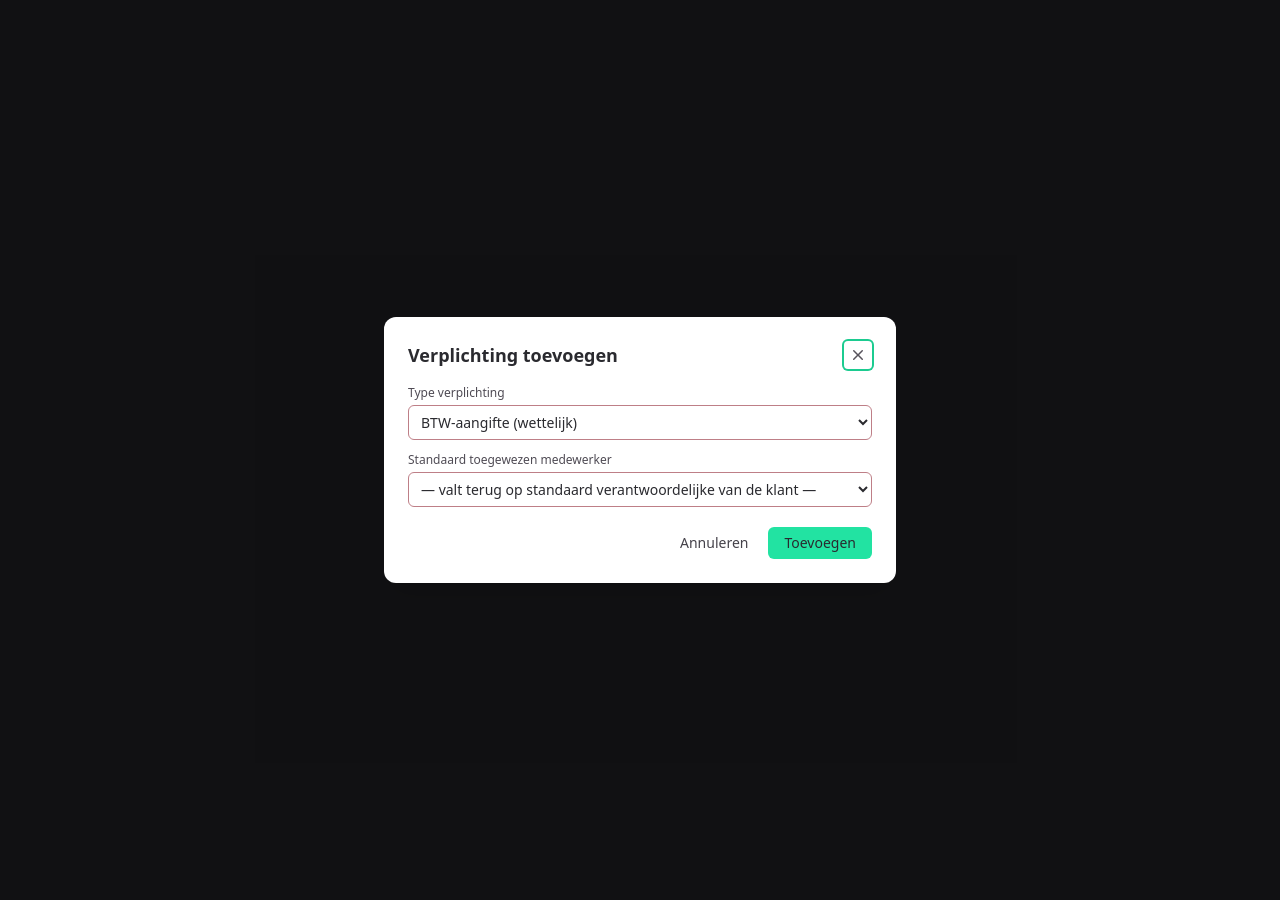
Test case: ClientObligationFormModal — type-dependent parameters › shows and submits frequentie/termijn_dagen parameters for "rapportering"
Later steps or results of the test are not shown.
Select "Periodieke rapportering (service)" in the dropdown labelled "Type verplichting" at (640, 422), box [408, 405, 872, 440]
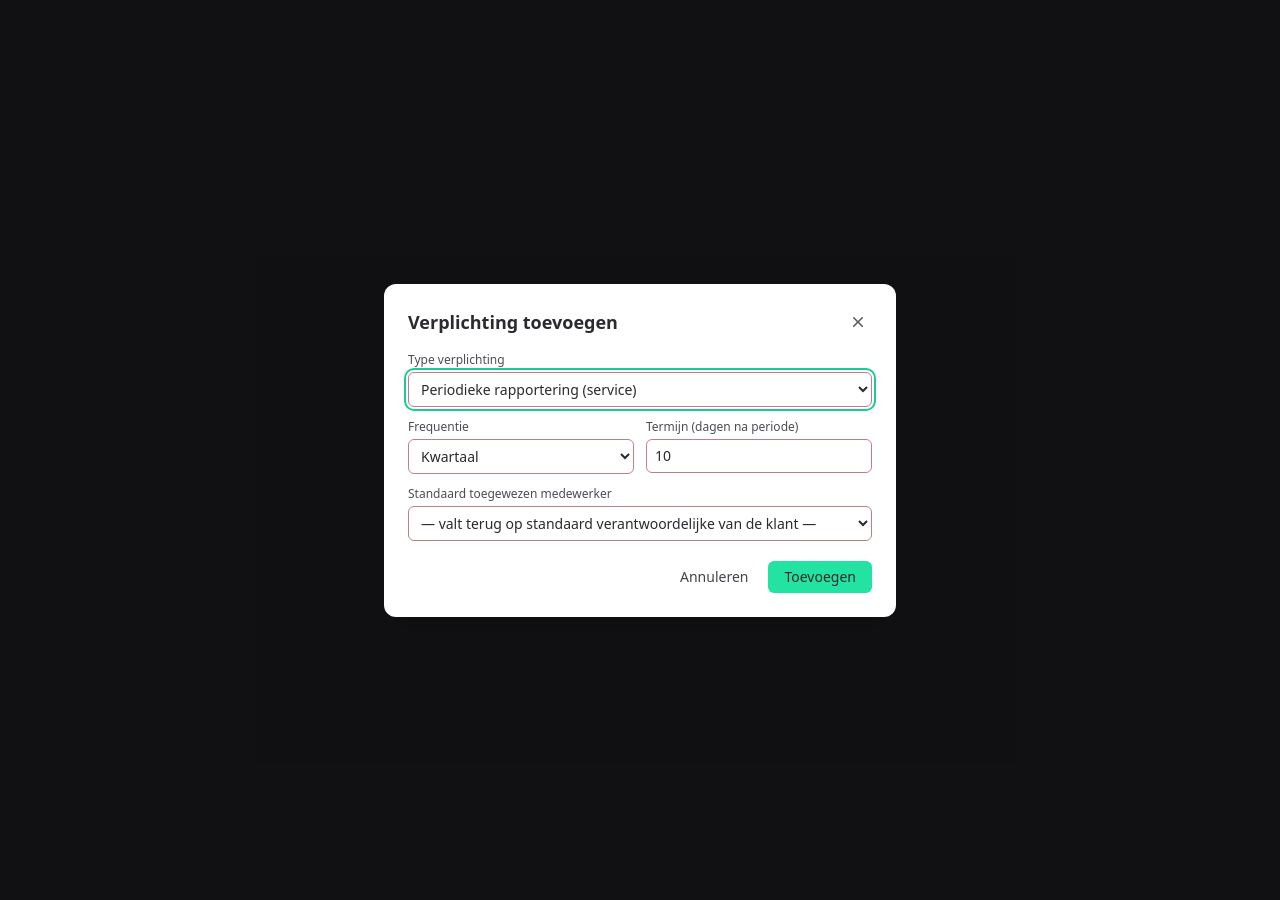
Check: the text "Frequentie" is shown, box [408, 418, 469, 434]
